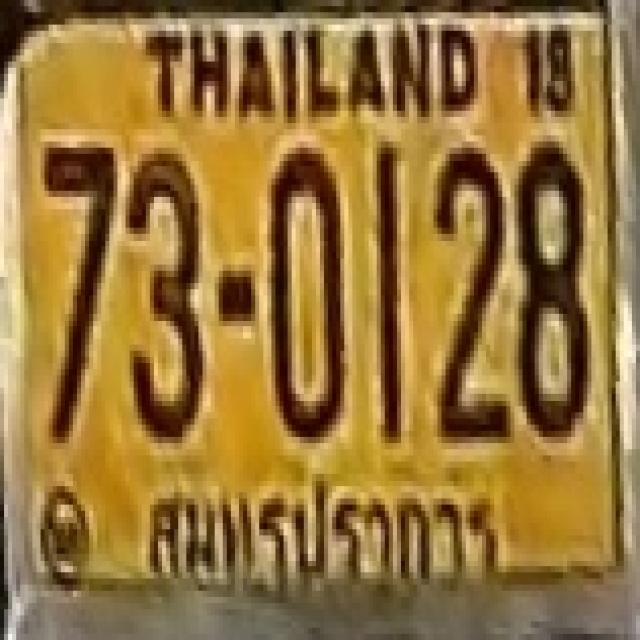0: (270, 150, 343, 438)
1: (373, 141, 397, 437)
2: (436, 152, 505, 441)
3: (125, 150, 202, 440)
7: (41, 141, 114, 437)
8: (516, 142, 585, 437)
SPK: (130, 466, 514, 598)
